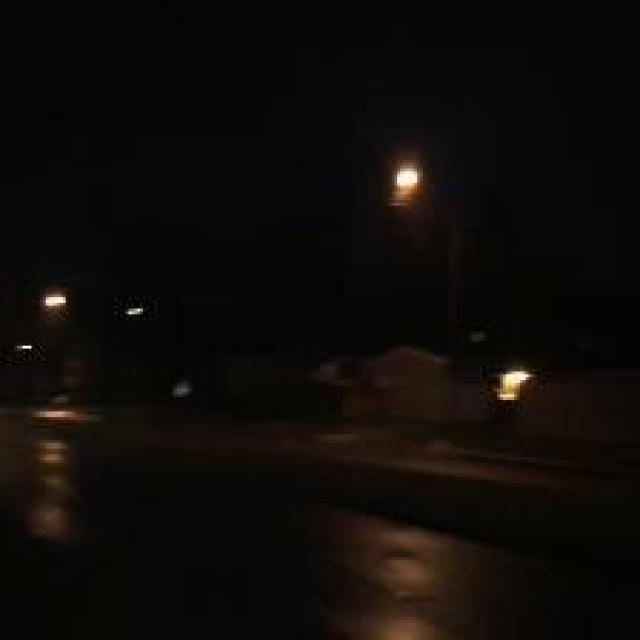other: (378, 154, 443, 223), (482, 355, 533, 411), (36, 278, 60, 321)
